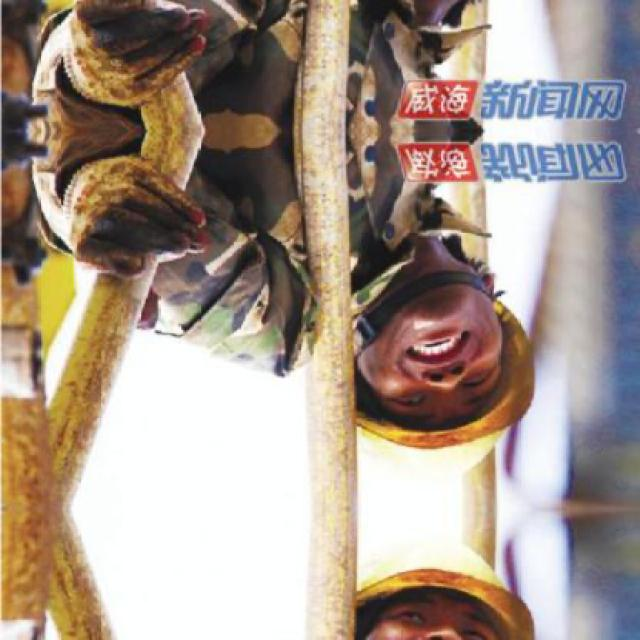con casco: (291, 250, 562, 487)
